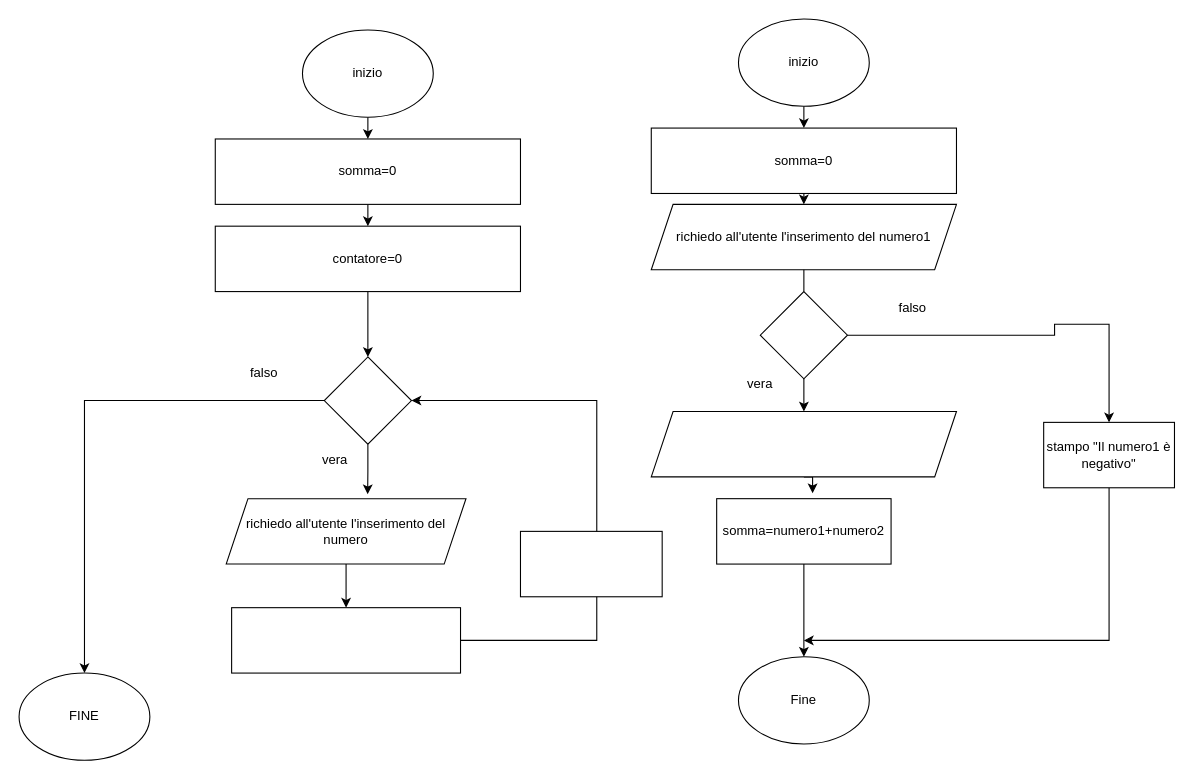
Image size: 1194x779. Some labels were removed from this diagram. Each missing label, with the centre of its shape:
"contatore<20" goes at point (367, 400).
"contatore=contatore+1" goes at point (590, 563).
"numero1>0" goes at point (803, 334).
"richiedo all'utente l'inserimento del numero2" goes at point (803, 443).
"somma=somma+numero" goes at point (346, 640).
